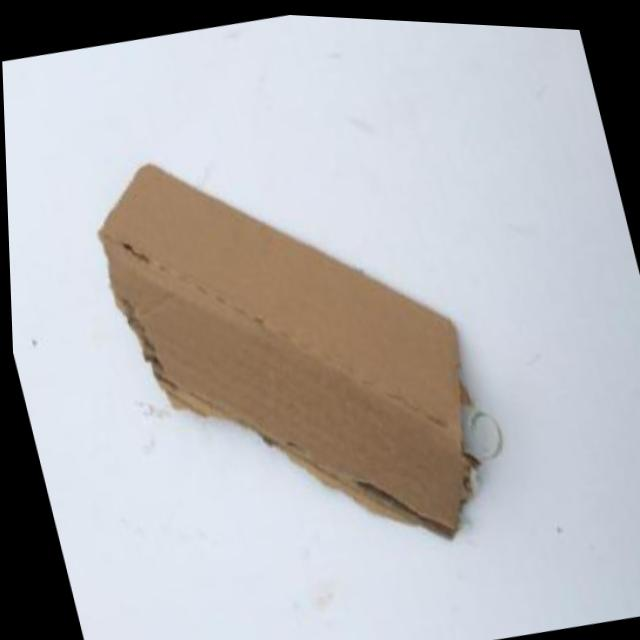box: (65, 90, 535, 622)
